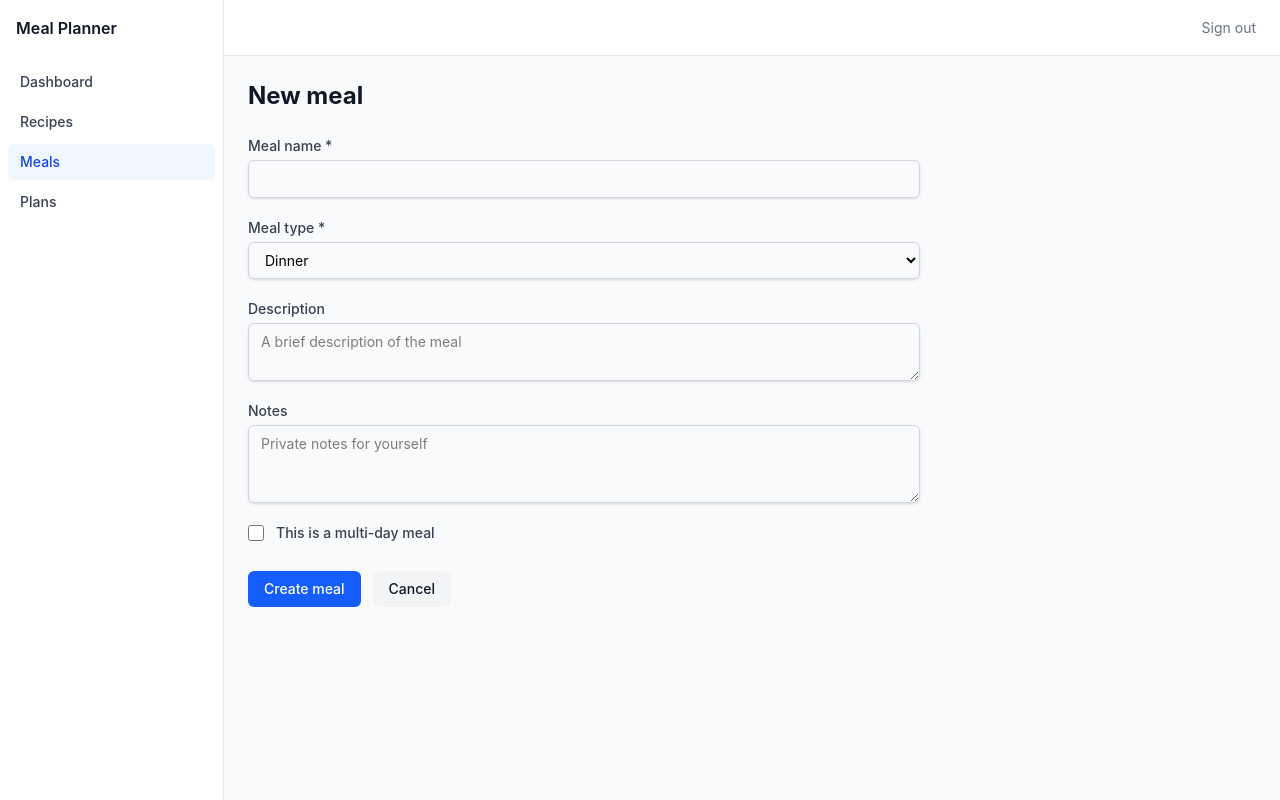
Test: MealFormPage (create) › creates meal and navigates away
Expected: the heading "New meal" is shown, 248,80 -> 363,112
Type "Sunday Roast" into the field labelled "Meal name *". click: point(584, 179)
box: 248,160 -> 920,198
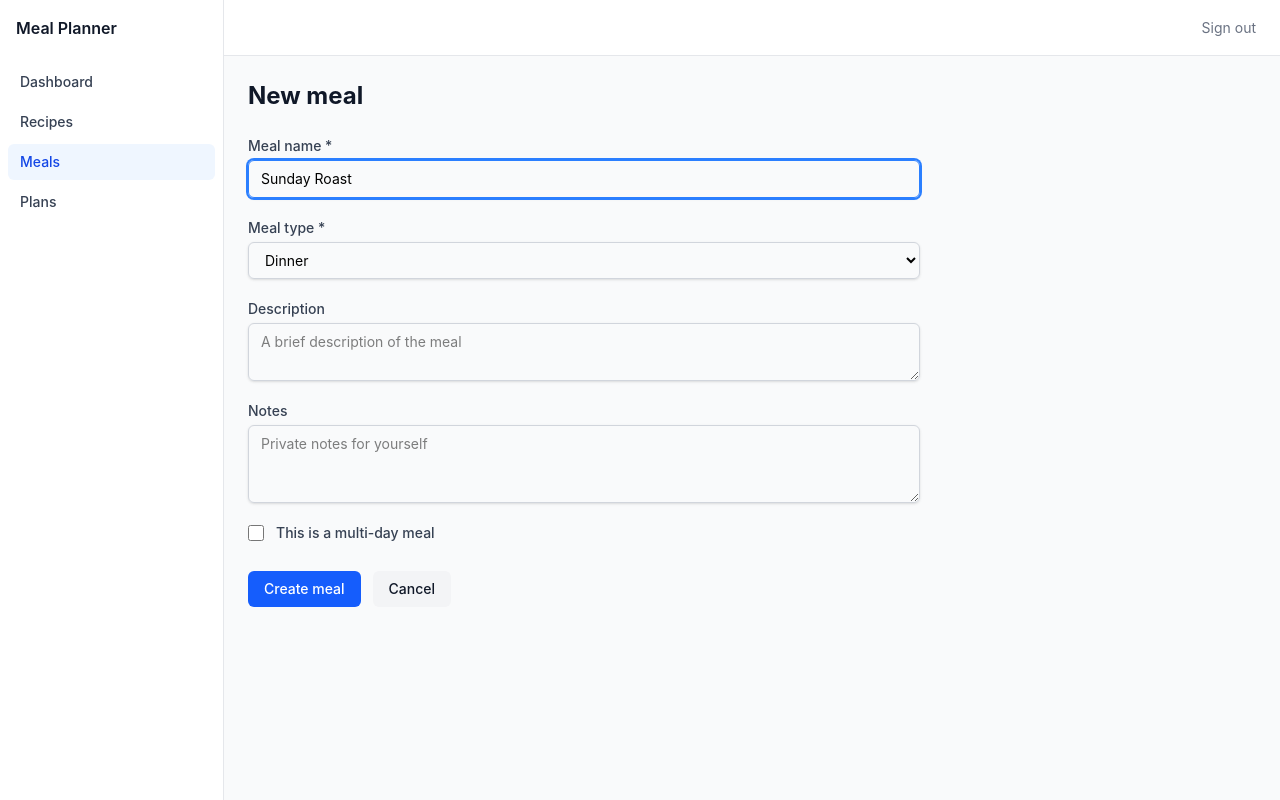
Click the button "Create meal". click: point(304, 589)
box: 248,571 -> 361,607
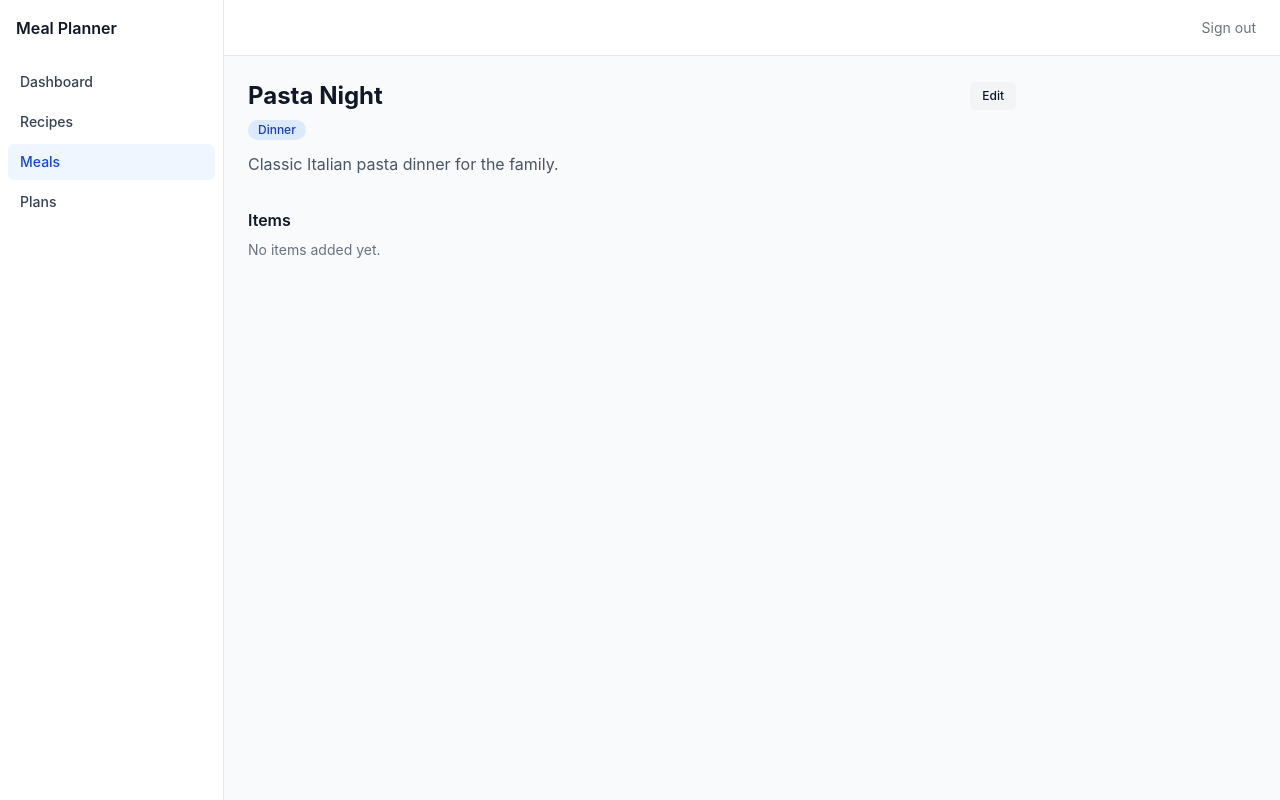
Expected: the heading "New meal" is gone
